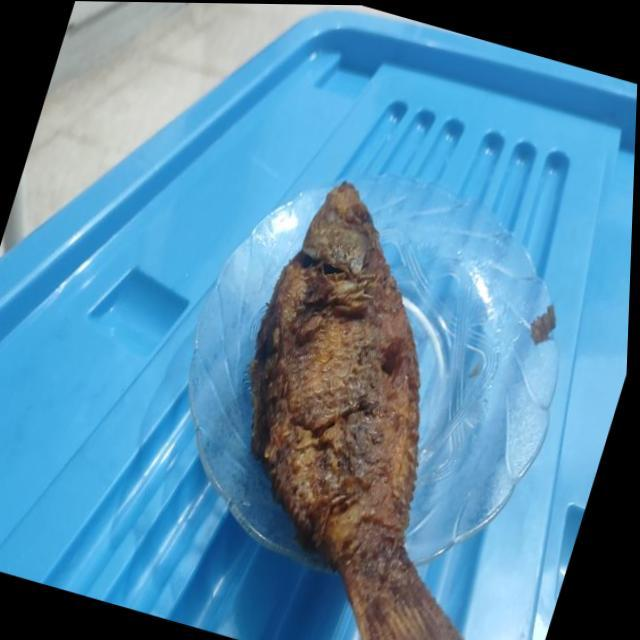ikan_mujair: (250, 182, 461, 640)
